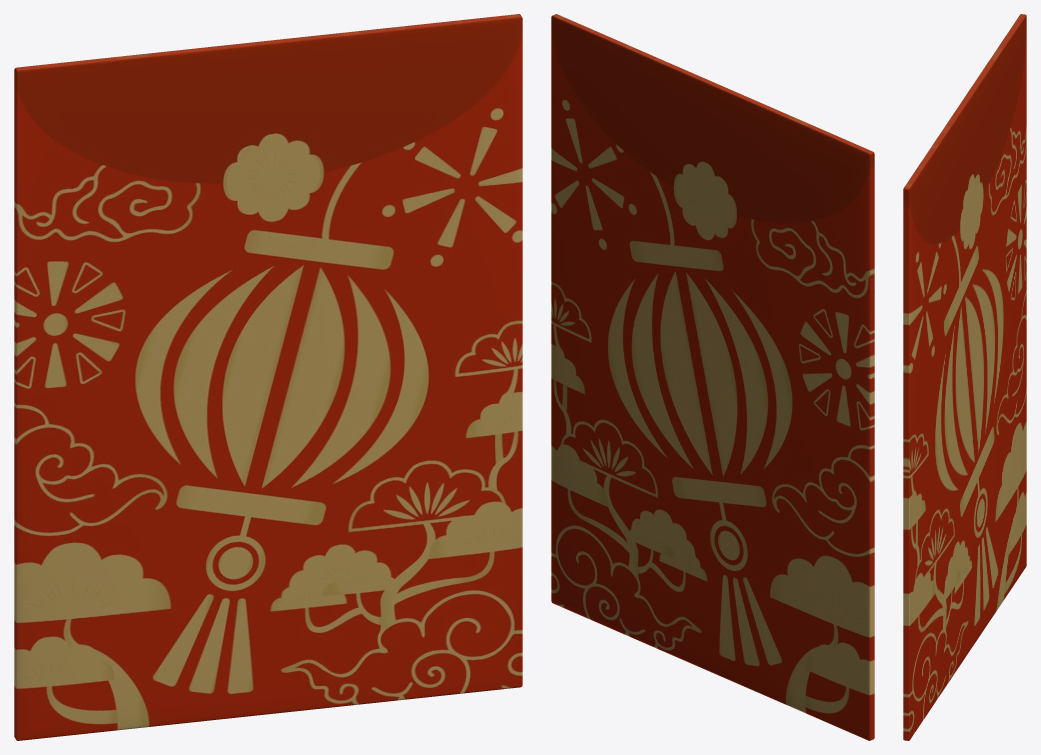
File: lixi_red.glb
3 views of the same model, side by side, from view 1: azimuth 30°, elevation 25°; view 2: azimuth 150°, elevation 25°; view 3: azimuth 270°, elevation 25° (orthographic). The views are drawn at different scales.
Parts seen in each view (by area): view 1: Envelope; view 2: Envelope; view 3: Envelope.
Boxes of the visible parts, bbox=[...] form: Envelope: bbox=[14, 14, 522, 740]; Envelope: bbox=[551, 14, 874, 740]; Envelope: bbox=[903, 14, 1026, 740].
Size of the model in its own units: 2.32 by 3.4 by 0.6867.
Materials: 1 (1 with a texture image).
